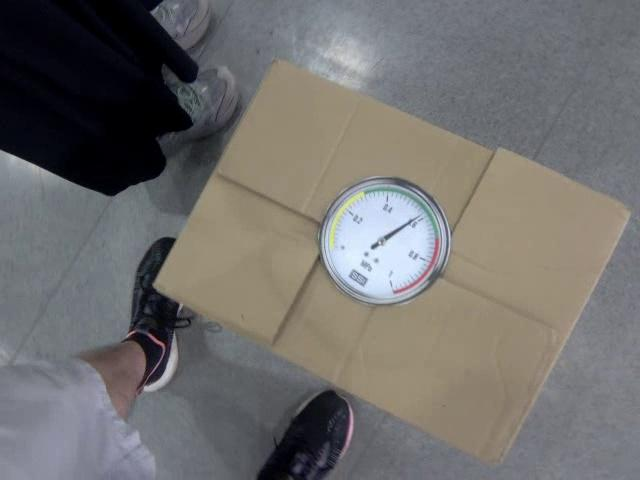Dashboard: (318, 176, 448, 308)
ssi: (347, 269, 369, 288)
